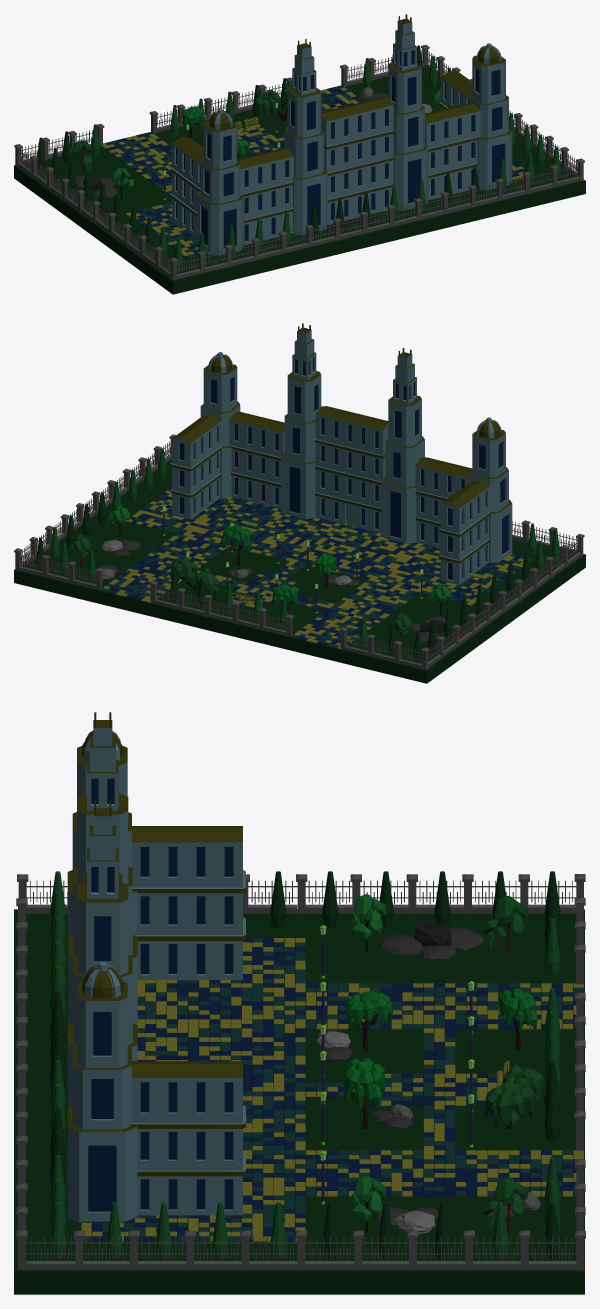
The model's file is University.FBX.
The picture shows the model from 3 angles, top to bottom: view 1: azimuth 30°, elevation 25°; view 2: azimuth 150°, elevation 25°; view 3: azimuth 270°, elevation 25°; orthographic projection. The views are drawn at different scales.
Parts seen in each view (by area): view 1: University; view 2: University; view 3: University.
Part boxes in pixels (box(x1,y1,x2,y2)): University: box(14, 14, 585, 294); University: box(14, 323, 585, 683); University: box(14, 712, 585, 1294).
Bounding box in the file's own units: 30000 × 13669 × 20034.
